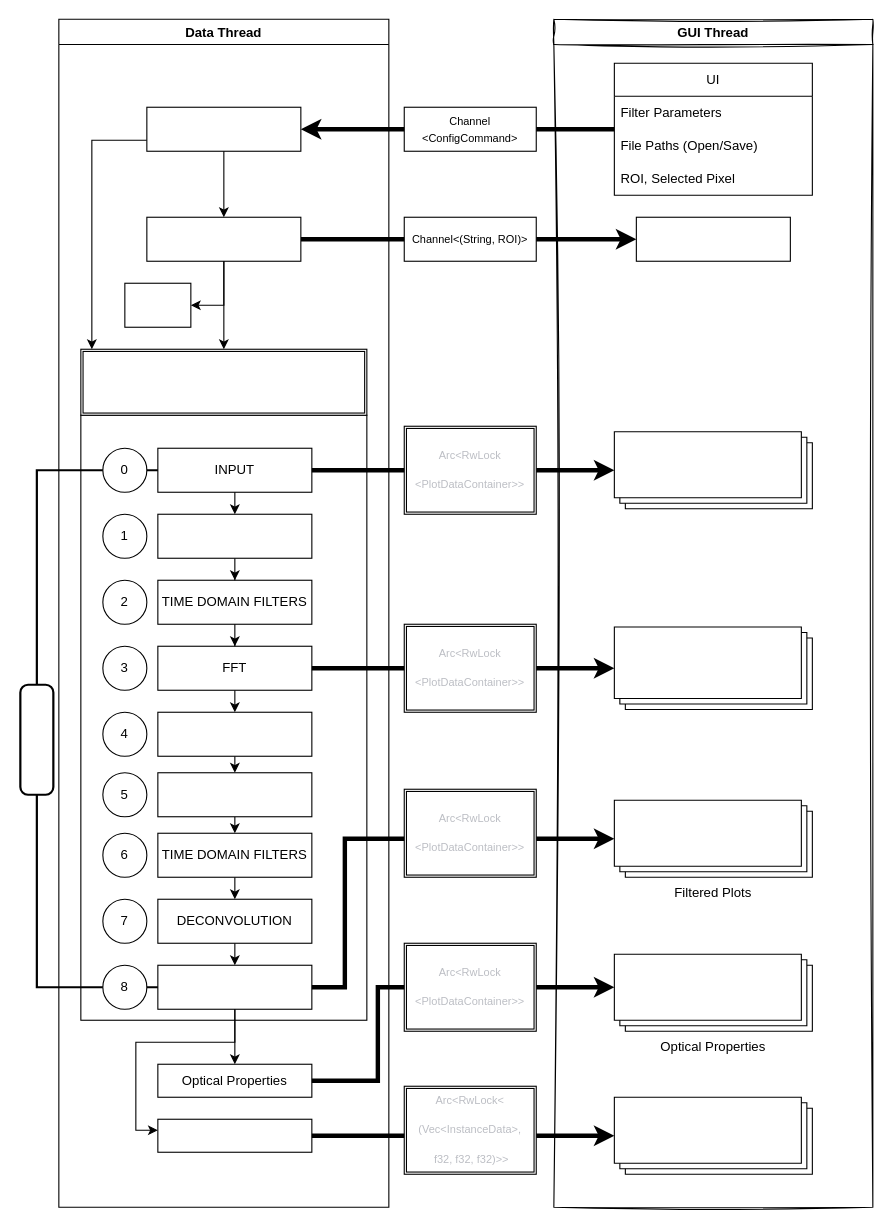
The diagram is 892 pixels wide and 1227 high, and some of its shapes have lost their labels. Here are the shapes that lost their labels. From the top down, the centre of each, then its label:
the point at 223,128: Command Handler
the point at 223,238: IO
the point at 712,238: ROIs
the point at 157,304: Store PSF
the point at 223,381: filter_data_pipeline Vec<ScannedImageFilterData>
the point at 712,470: Time Raw Plot
the point at 234,535: DOWNSCALING
the point at 712,668: FFT Raw Plot
the point at 36,739: Filtering Pipeline
the point at 234,733: FREQUENCY DOMAIN FILTERS
the point at 234,794: iFFT
the point at 234,986: OUTPUT
the point at 234,1135: 3D rendering
the point at 712,1135: 3D
